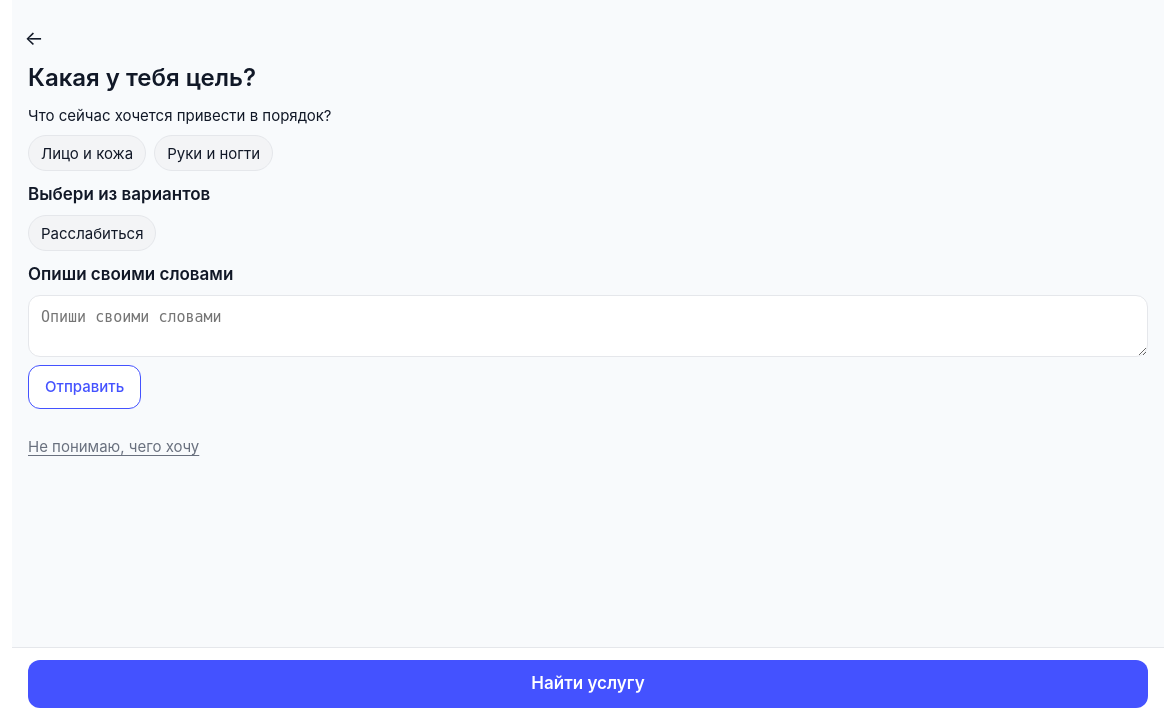
Scenario: шаг анкеты рисуется тем, что прислал сервер › экран не решает ничего: другой документ — другой вопрос, без правки кода
The width and height of the screenshot is (1164, 720).
Click the button "Лицо и кожа". click: (87,153)
box: [28, 135, 146, 171]
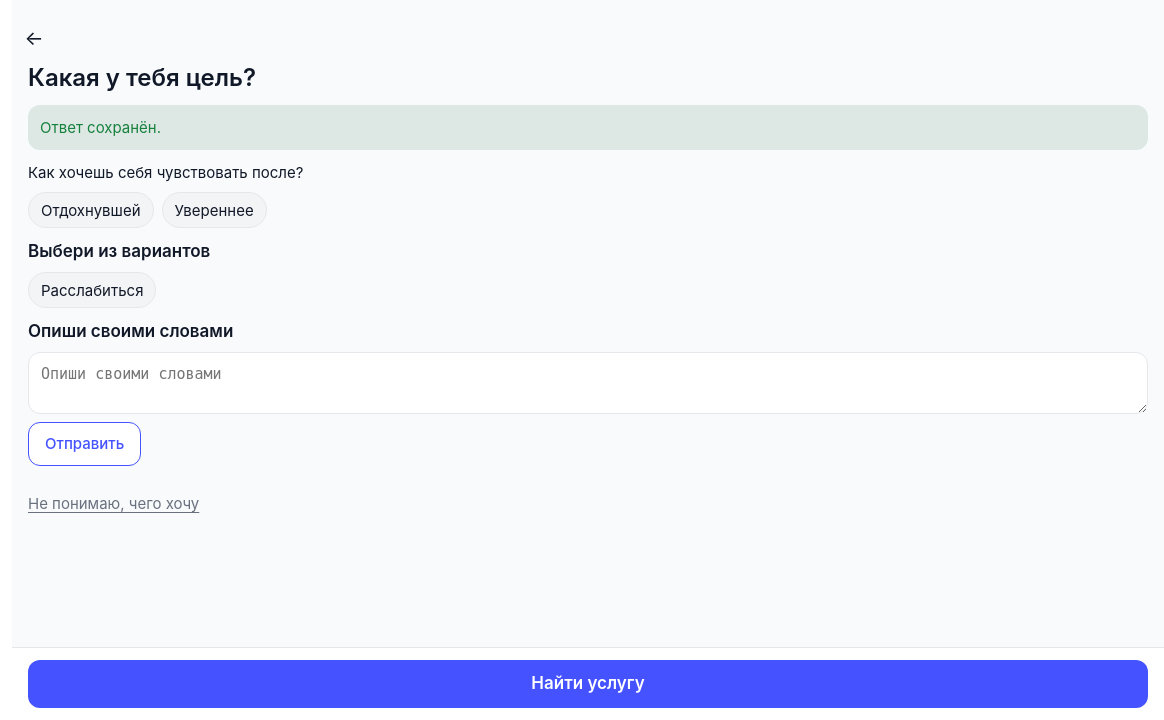
Now the text "Как хочешь себя чувствовать после?" is shown, box [28, 163, 303, 182]
Now the button "Отдохнувшей" is shown, box [28, 192, 154, 228]
Now the button "Лицо и кожа" is gone
